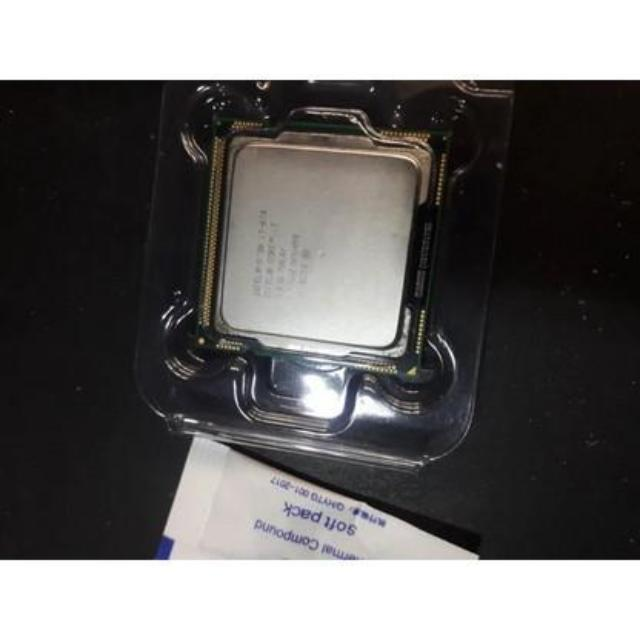CPU: (204, 122, 426, 370)
